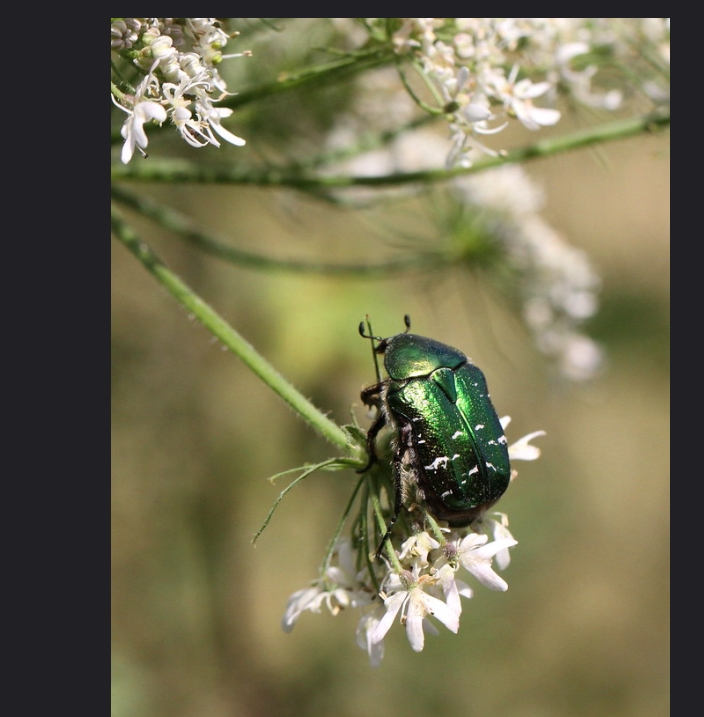Cetonia_aurata: (355, 310, 518, 529)
